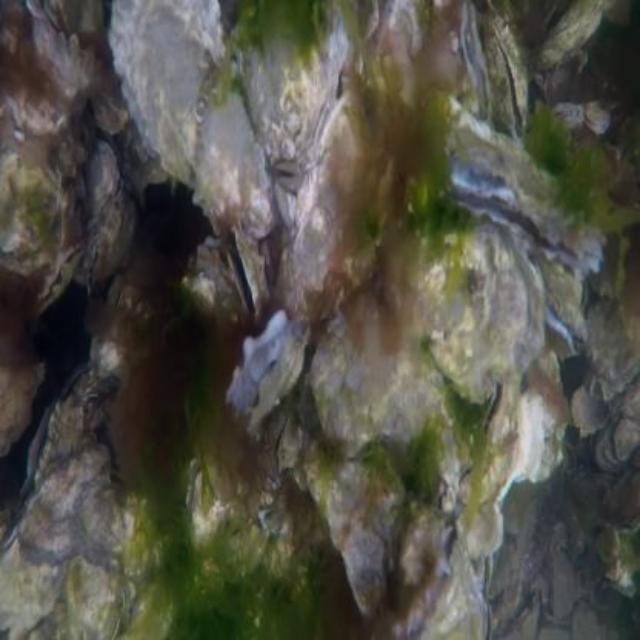Oyster-Closed: (298, 286, 460, 616), (382, 208, 552, 412), (0, 443, 156, 640), (108, 0, 222, 188), (227, 0, 349, 166), (0, 66, 84, 284), (191, 86, 279, 240), (586, 275, 640, 397)
Oyster-Open: (427, 96, 607, 276), (21, 352, 123, 500), (226, 304, 314, 436), (394, 522, 490, 640), (20, 0, 109, 104), (458, 374, 516, 504), (480, 0, 532, 144), (528, 245, 592, 359), (532, 0, 614, 72), (589, 375, 640, 477), (222, 224, 272, 326), (453, 0, 493, 126), (36, 240, 84, 320), (265, 408, 309, 472), (82, 235, 114, 302)
